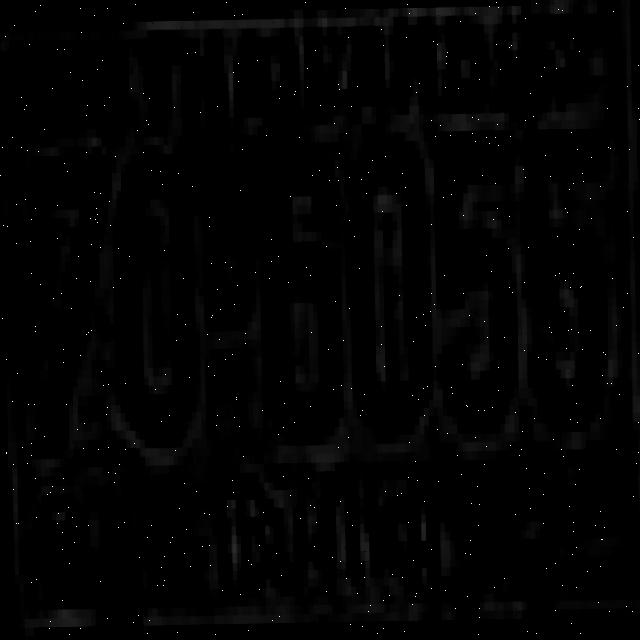0: (346, 132, 426, 426), (113, 149, 194, 435)
5: (518, 124, 604, 419), (432, 126, 514, 420)
6: (258, 142, 338, 428)
7: (26, 146, 106, 441)
ChiangMai: (199, 450, 456, 610)
